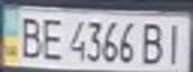3: (84, 17, 106, 63)
4: (63, 16, 87, 62)
6: (118, 18, 142, 65), (103, 17, 121, 64)
B: (12, 12, 45, 60), (139, 19, 169, 65)
E: (36, 15, 66, 61)
I: (160, 19, 190, 66)
